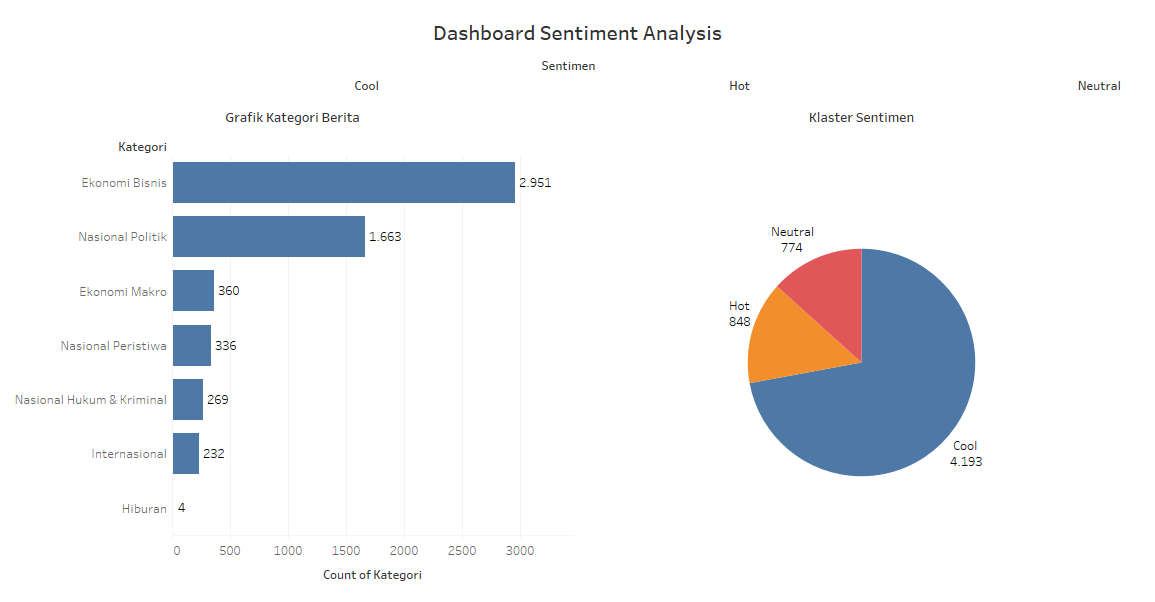

The dashboard page shown, as its layout file describes it:
{"tool":"tableau","page":{"name":"Dashboard 1","canvas":[1000,1000],"units":"permille","ordinal":0},"visuals":[{"type":"worksheet","title":"Sheet 3","mark":"Automatic","cols":["Sentimen"],"box":[6.9,13.3,986.1,149.5]},{"type":"worksheet","title":"Sheet 1","mark":"Automatic","rows":["Kategori"],"cols":["Kategori"],"box":[6.9,162.8,493.1,823.9]},{"type":"worksheet","title":"Sheet 2","mark":"Pie","box":[500,162.8,493.1,823.9]}]}

Visuals, with their boxes on the dashboard's canvas, which has no fixed pixel size, in thousandths of its width and height (x1, y1, x2, y2). These are canvas units, not pixel positions in the 1155x602 screenshot, which may show the page scaled, cropped or inside an application window:
"Sheet 3" worksheet: <box>7,13,993,163</box>
"Sheet 1" worksheet: <box>7,163,500,987</box>
"Sheet 2" worksheet (Pie marks): <box>500,163,993,987</box>
